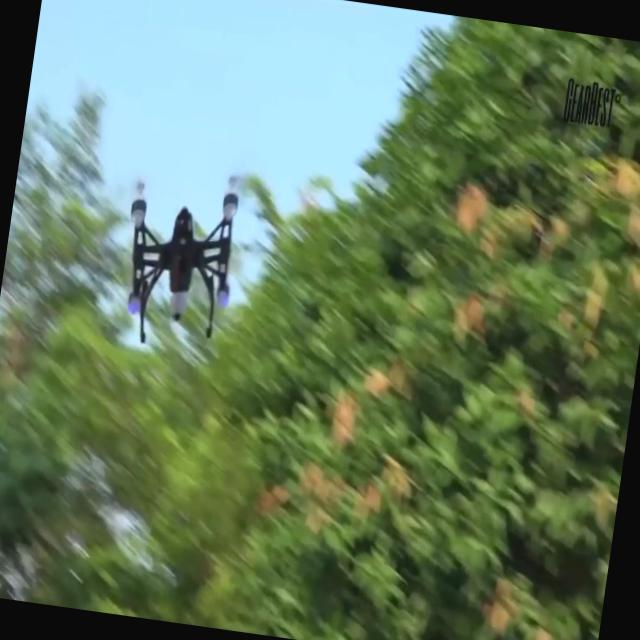drone: (106, 156, 250, 354)
